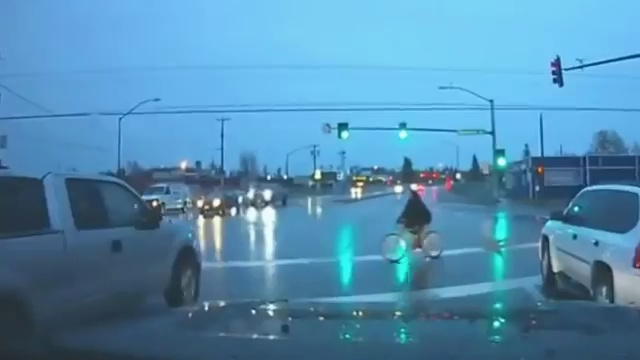cyclist_side: (381, 182, 447, 265)
